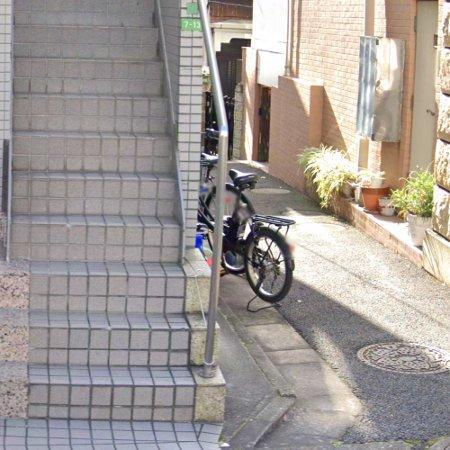bicycles: (222, 169, 296, 302), (198, 185, 217, 248)
